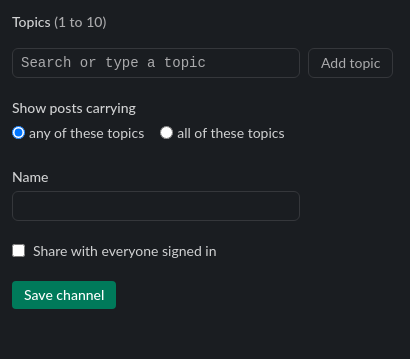
ChannelBuilder › should offer suggested topics from the search and add one when it is clicked
The image size is (410, 359).
Type "pcs" into the field labelled "Topics (1 to 10)" at (156, 63), box 12,48 -> 300,78
Wait 250 ms
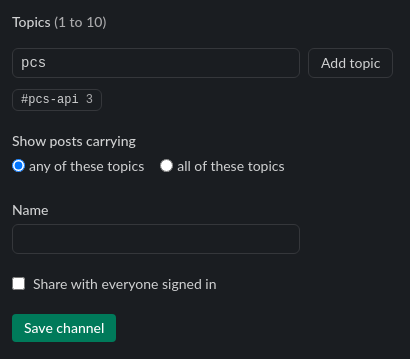
Click the button "#pcs-api 3" at (57, 100), box 12,89 -> 102,111
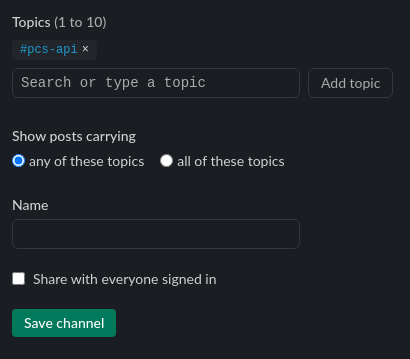
Result: the button named "Remove pcs-api" is shown at 82,42 -> 89,58
